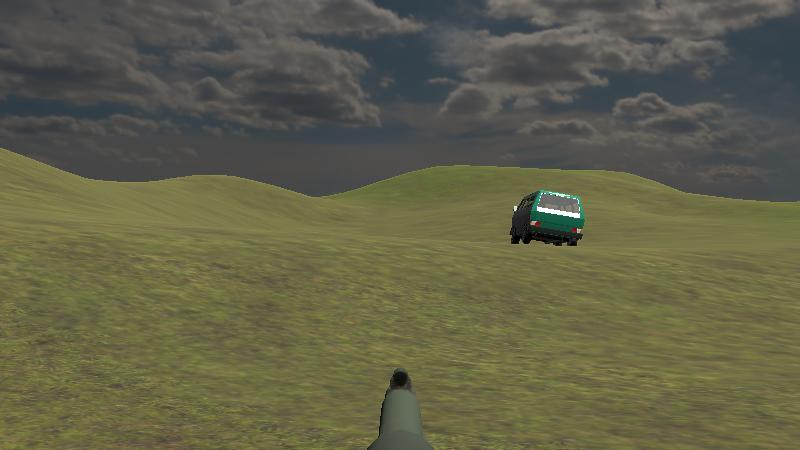car: (508, 187, 586, 250)
